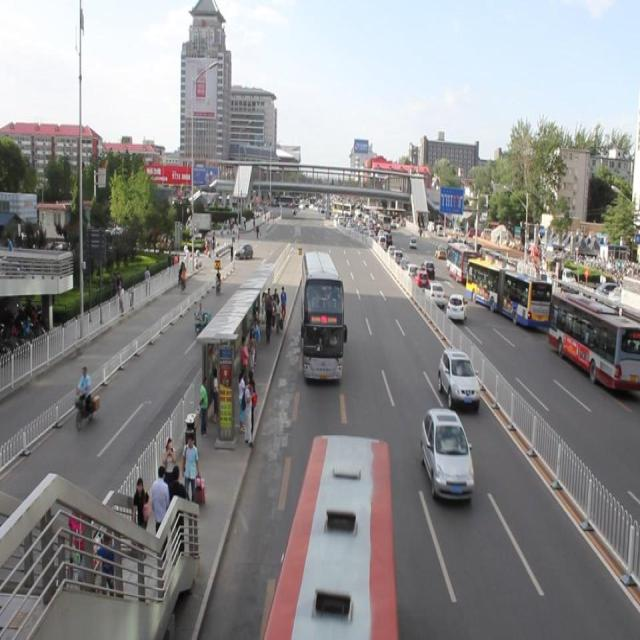car: (418, 408, 473, 502), (434, 348, 480, 408)
van: (258, 432, 400, 640), (298, 250, 346, 384)
